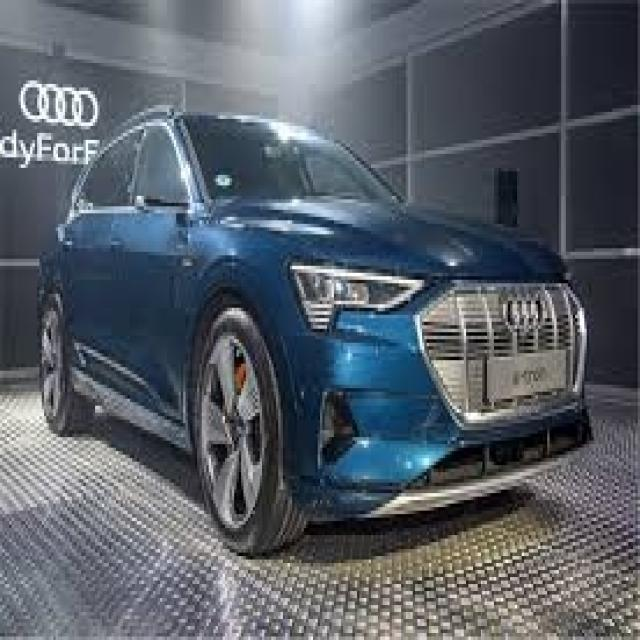blue: (33, 116, 589, 548)
